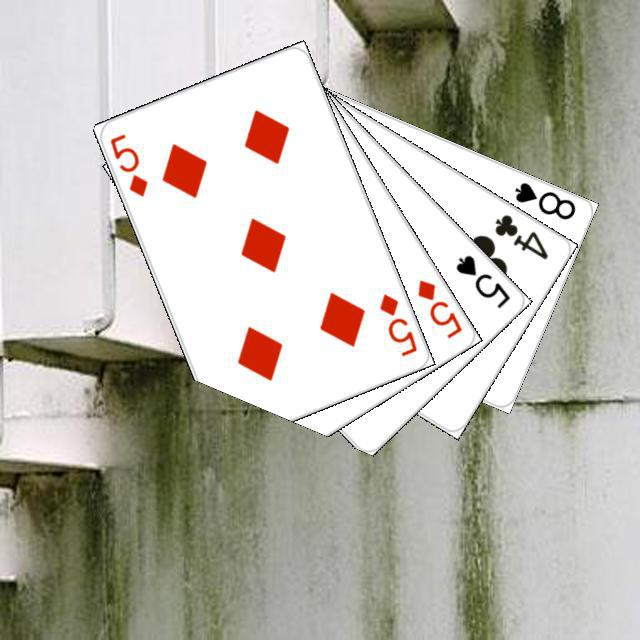4c: (489, 209, 550, 262)
5d: (412, 274, 464, 340), (374, 288, 419, 358), (105, 129, 150, 199)
5s: (451, 250, 512, 311)
8s: (509, 177, 578, 222)
